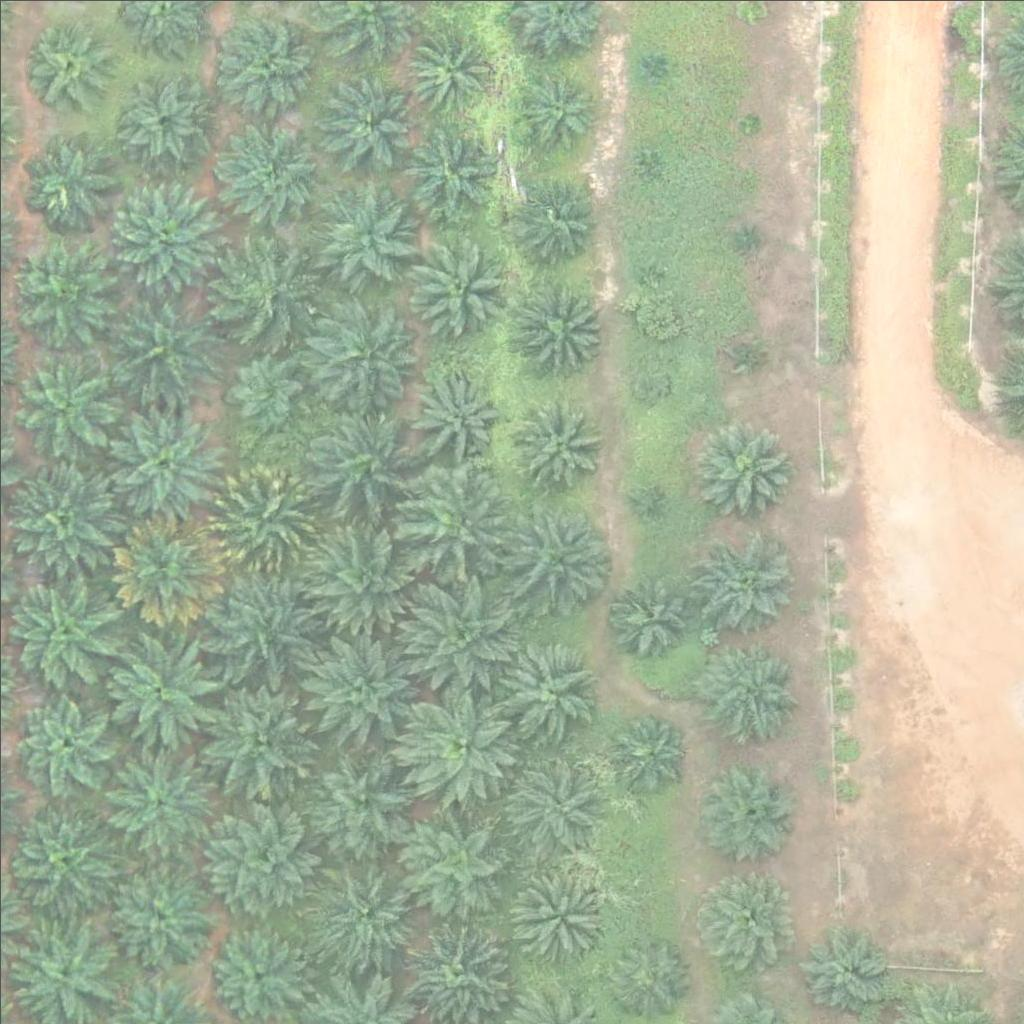Kelapa_Sawit: (108, 170, 221, 284), (501, 501, 614, 615), (309, 858, 422, 971), (301, 743, 414, 856), (201, 803, 314, 916), (198, 689, 311, 802), (199, 571, 312, 684), (6, 343, 119, 456), (110, 510, 223, 623), (208, 461, 321, 574), (108, 409, 221, 522), (111, 291, 224, 404), (402, 573, 514, 687), (308, 403, 420, 517), (304, 300, 416, 414), (399, 467, 511, 581), (402, 805, 514, 918), (403, 684, 515, 797), (300, 632, 412, 745), (102, 857, 214, 970), (102, 738, 214, 851), (105, 632, 217, 745), (2, 798, 114, 911), (1, 574, 113, 687), (8, 461, 120, 574), (311, 517, 423, 630), (701, 642, 801, 743), (508, 863, 608, 964), (13, 690, 113, 791), (8, 245, 108, 346), (317, 184, 417, 285), (408, 235, 508, 336), (400, 123, 500, 224), (693, 531, 793, 632), (695, 423, 795, 524), (219, 11, 319, 112), (691, 869, 791, 969), (696, 762, 796, 862), (498, 750, 598, 850), (496, 637, 596, 737), (19, 134, 119, 234), (212, 241, 312, 341), (219, 120, 319, 220), (508, 66, 596, 155), (794, 929, 882, 1017), (123, 73, 211, 161), (511, 175, 599, 263), (402, 23, 490, 111), (603, 930, 690, 1018), (323, 71, 410, 159), (411, 370, 498, 458), (511, 403, 598, 491), (518, 281, 605, 369), (605, 574, 692, 662), (21, 22, 108, 110), (610, 714, 685, 790), (228, 354, 303, 430), (629, 361, 667, 399), (629, 489, 654, 514), (633, 259, 658, 284), (639, 143, 664, 168), (733, 339, 758, 364), (733, 226, 758, 251), (737, 108, 762, 133), (638, 54, 663, 79)
